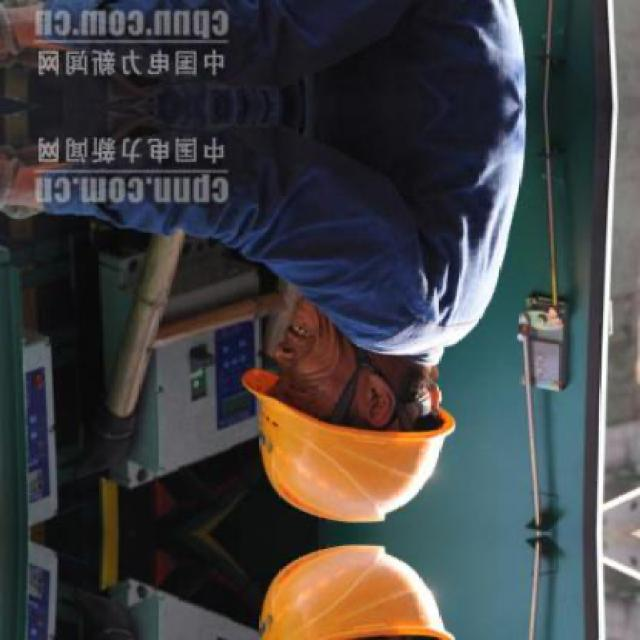con casco: (242, 311, 463, 527)
